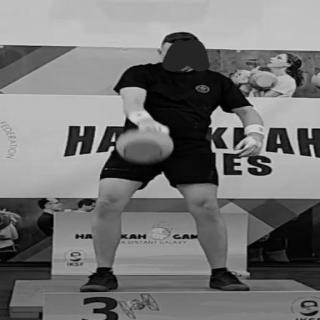kettlebell: (113, 123, 179, 166)
